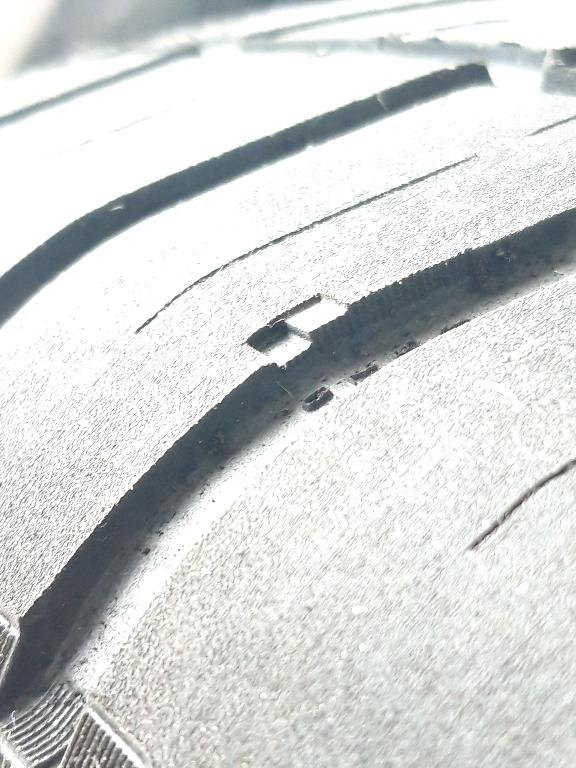temoin:25: (238, 285, 364, 391)
